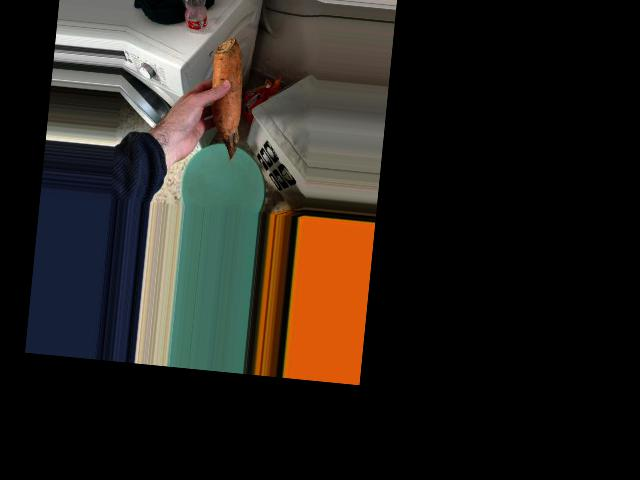sweet_potato: (197, 47, 246, 156)
